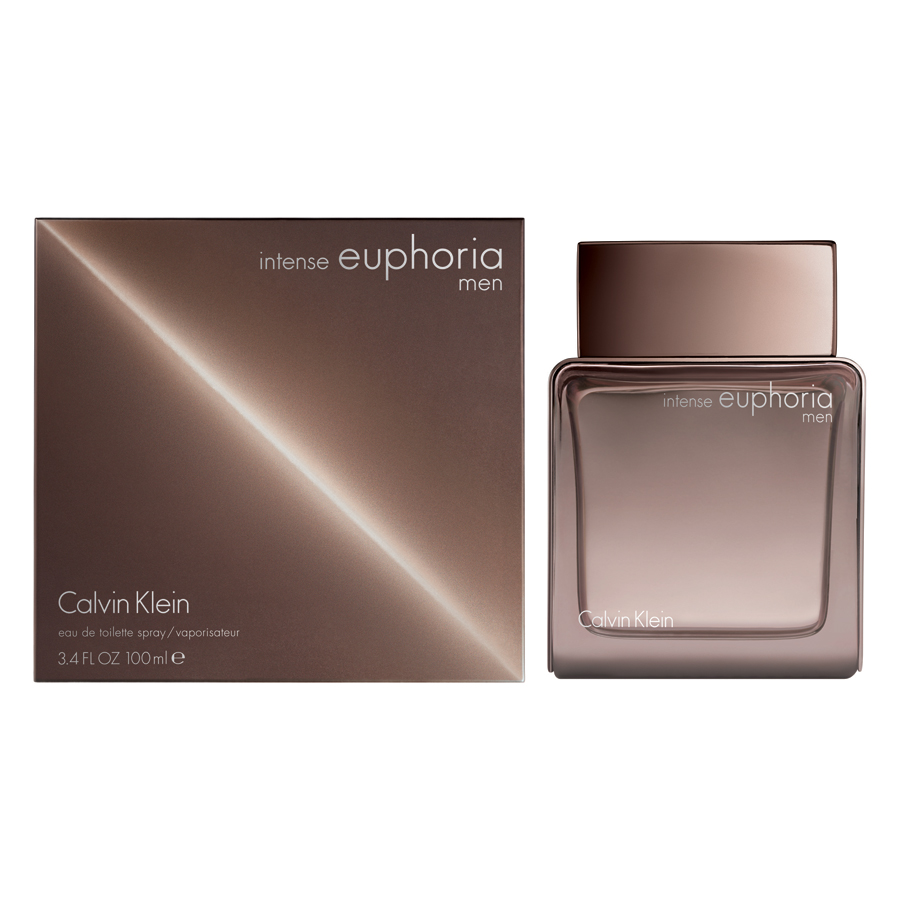Calvin Klein: (52, 583, 203, 619), (570, 600, 681, 635)
